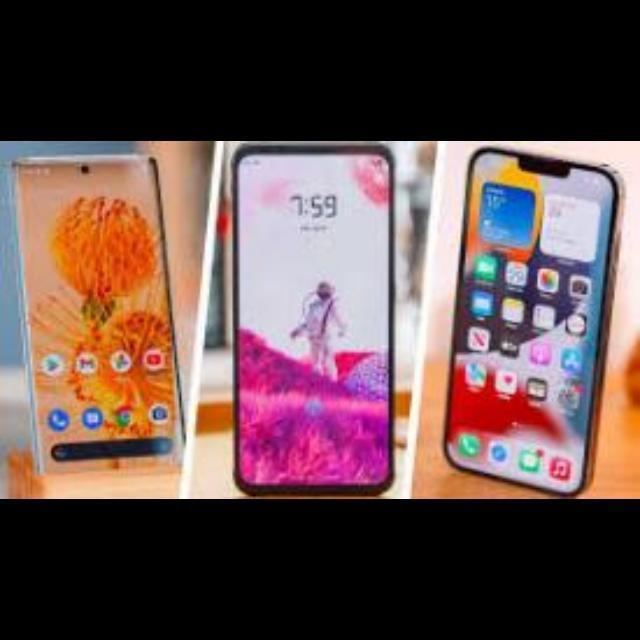phone: (216, 143, 401, 497), (445, 154, 618, 476)
